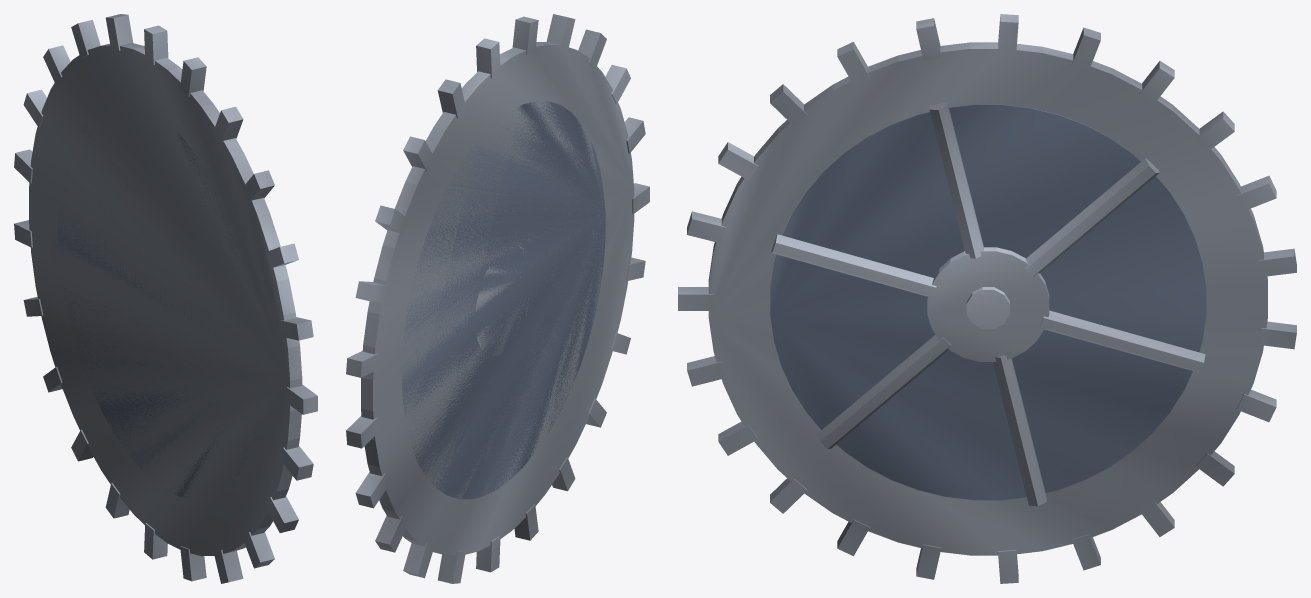
Rendered from SM_TowerGear_F4.fbx.
3 views of the same model, side by side, from view 1: azimuth 30°, elevation 25°; view 2: azimuth 150°, elevation 25°; view 3: azimuth 270°, elevation 25° (orthographic). The views are drawn at different scales.
Parts seen in each view (by area): view 1: SM_TowerGear_F4; view 2: SM_TowerGear_F4; view 3: SM_TowerGear_F4.
Boxes of the visible parts, x1=… form: SM_TowerGear_F4: x1=14, y1=14, x2=317, y2=583; SM_TowerGear_F4: x1=346, y1=14, x2=649, y2=583; SM_TowerGear_F4: x1=678, y1=14, x2=1296, y2=583.
Bounding box in the file's own units: 31.49 × 576 × 574.
